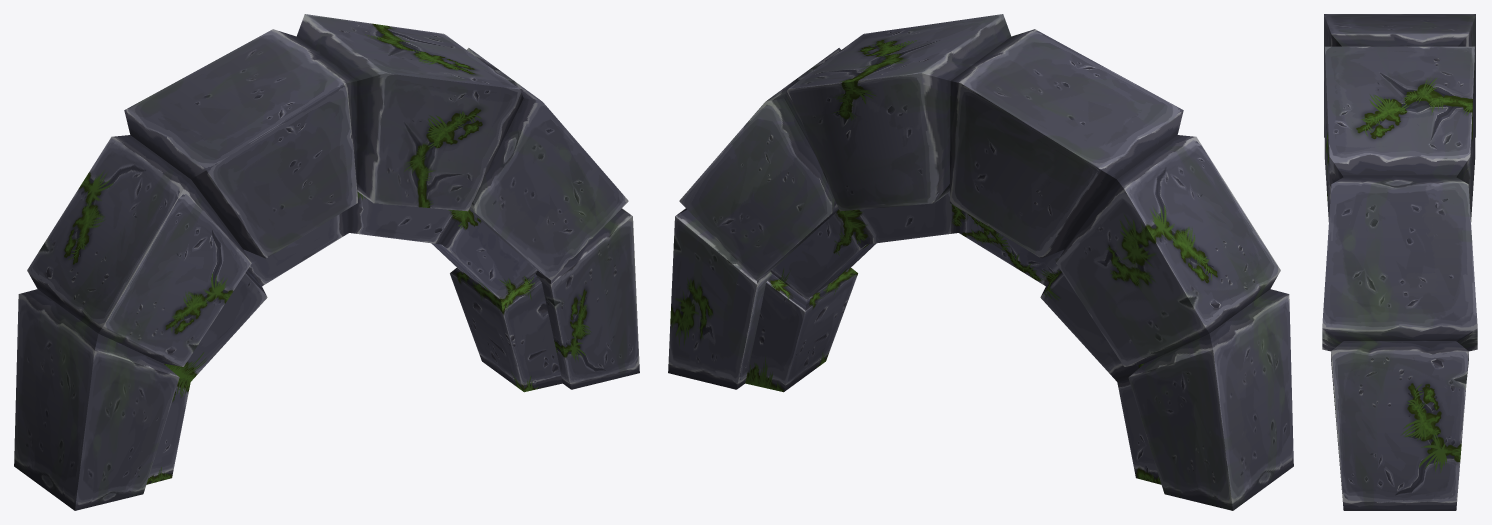
File: MOD_Gateway_Arc_01.fbx
3 renders of one model, left to right at view 1: azimuth 30°, elevation 25°; view 2: azimuth 150°, elevation 25°; view 3: azimuth 270°, elevation 25°, orthographic. The views are drawn at different scales.
Parts seen in each view (by area): view 1: MOD_Gateway_Arc_01; view 2: MOD_Gateway_Arc_01; view 3: MOD_Gateway_Arc_01.
Boxes of the visible parts, box(x1,y1,x2,y2) form: MOD_Gateway_Arc_01: box(14, 14, 639, 510); MOD_Gateway_Arc_01: box(668, 14, 1293, 510); MOD_Gateway_Arc_01: box(1322, 14, 1477, 510).
Size of what is drawn, in the model's own units: 493 by 310 by 127.
